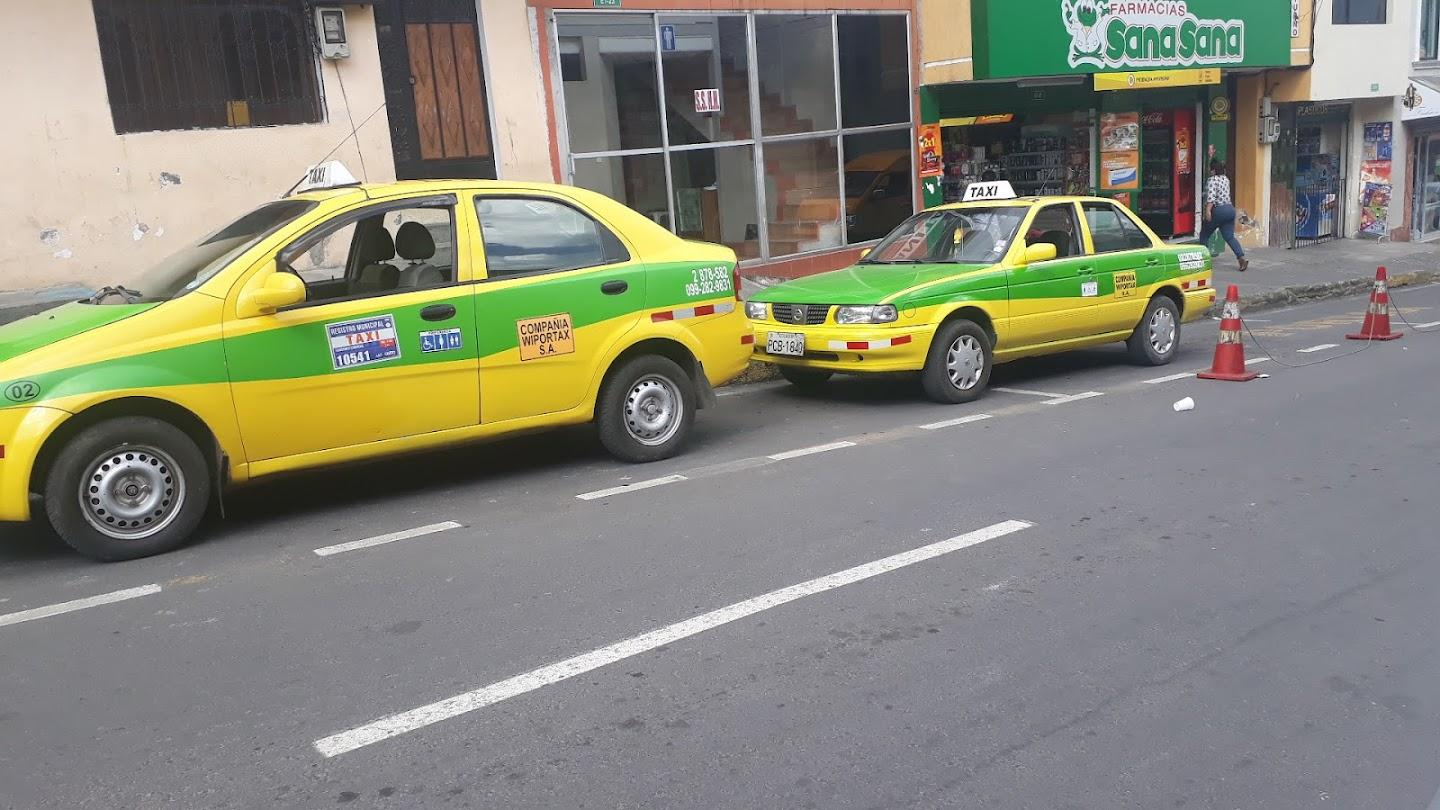taxi: (6, 126, 747, 562)
